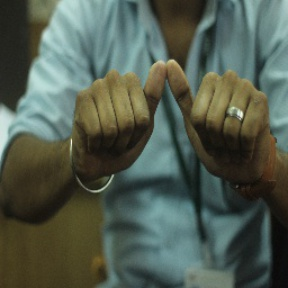A: (95, 54, 252, 171)
